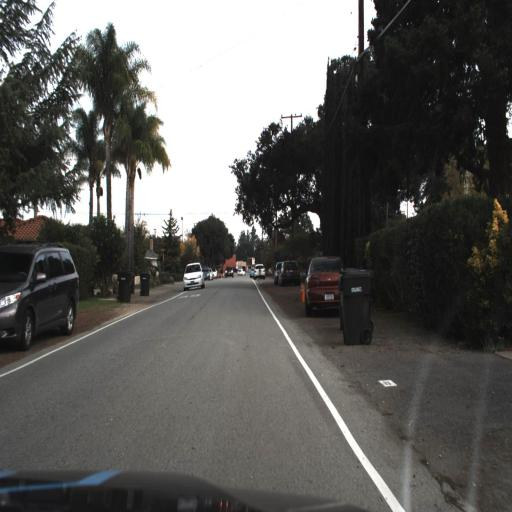car: (0, 238, 77, 355), (301, 253, 348, 312), (306, 253, 345, 319), (182, 262, 204, 292), (181, 261, 203, 288), (254, 263, 266, 282)
